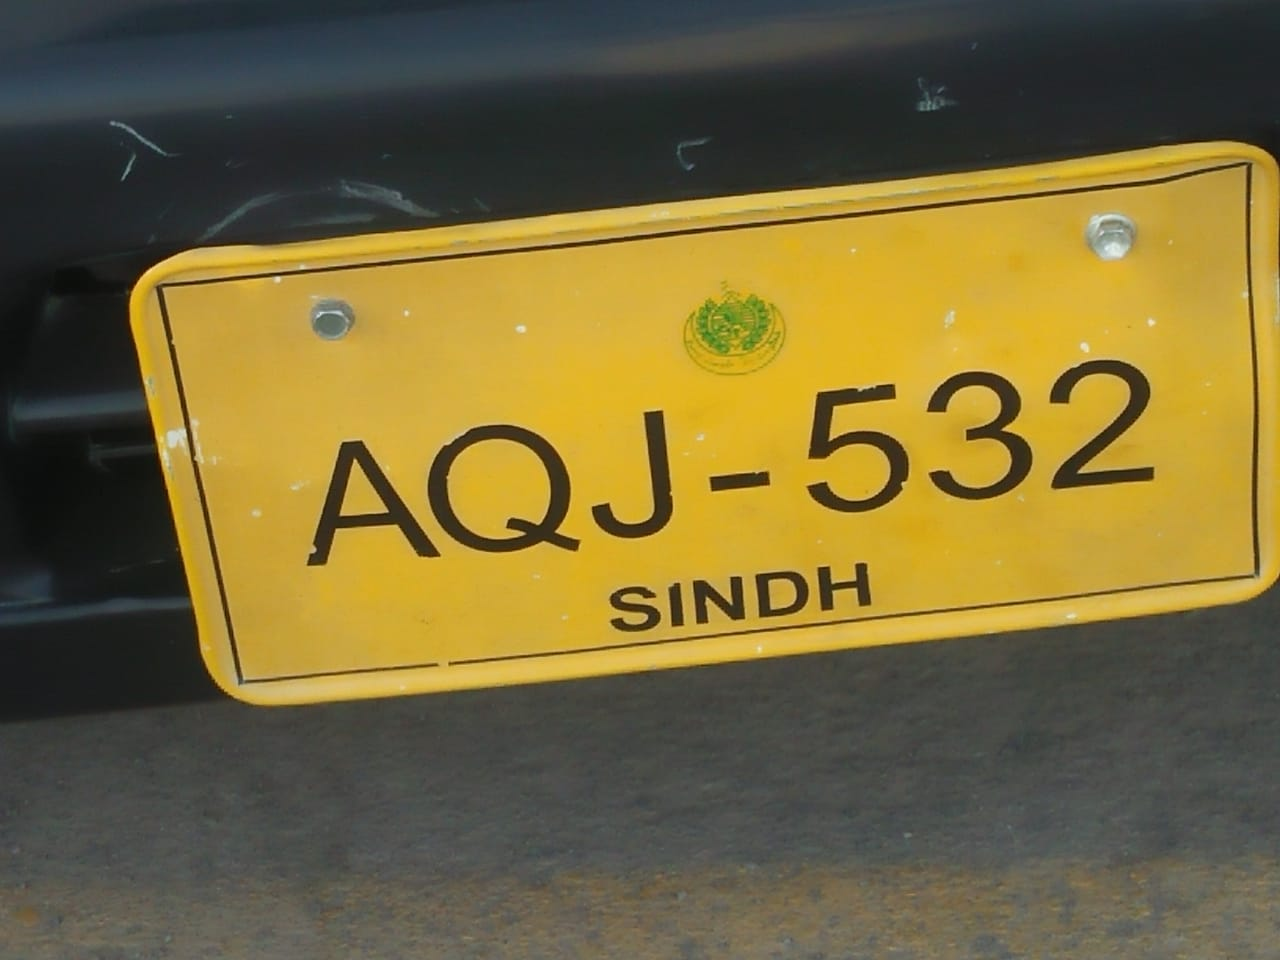license plate: (136, 217, 1280, 649)
